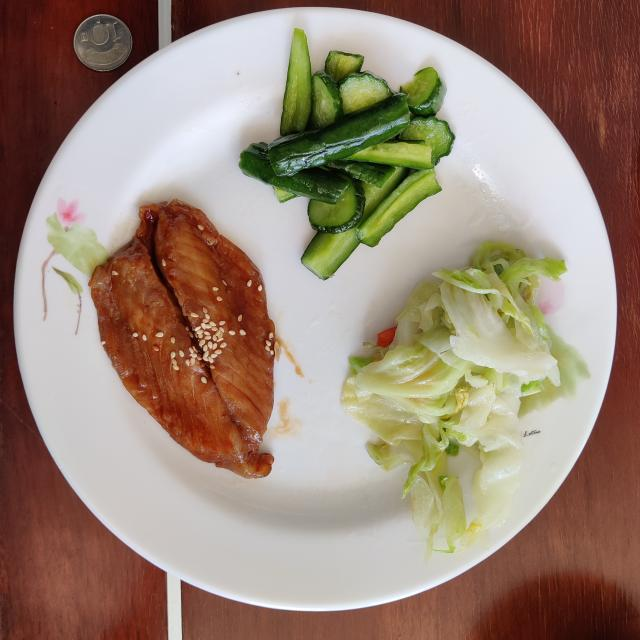Kabayaki sea bream fillet: (89, 200, 275, 478)
cabbage: (341, 241, 566, 560)
coin: (74, 15, 132, 71)
cucumber: (239, 29, 454, 279)
